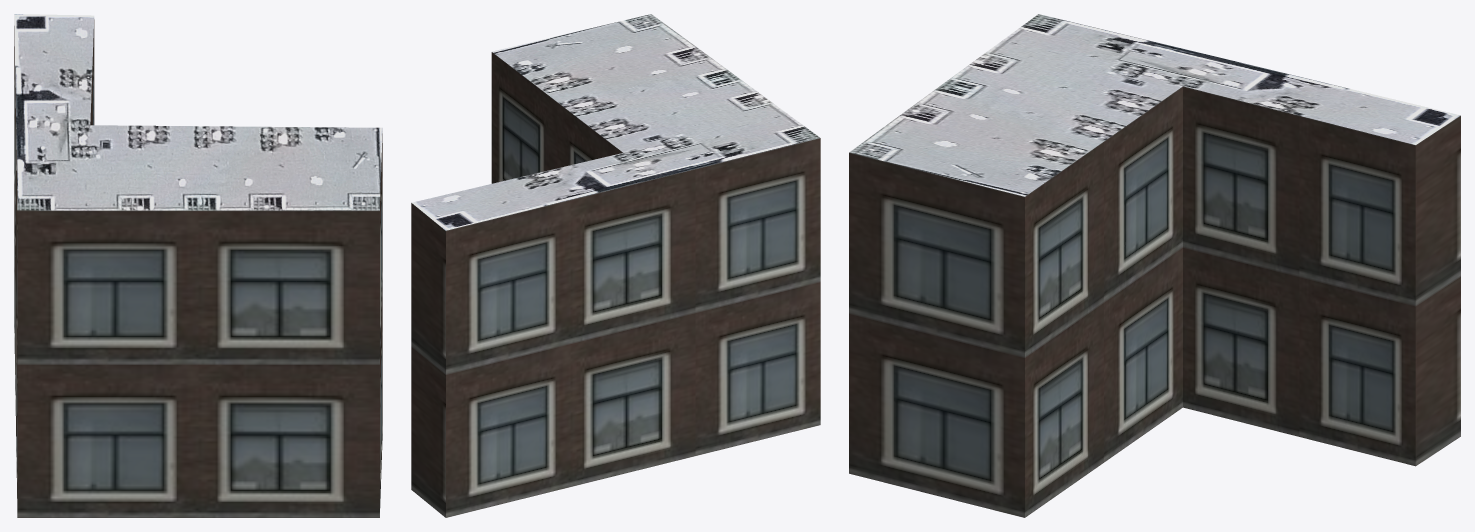
File: ResTex__802.fbx
3 views of the same model, side by side, from view 1: azimuth 30°, elevation 25°; view 2: azimuth 150°, elevation 25°; view 3: azimuth 270°, elevation 25° (orthographic). The views are drawn at different scales.
Visible parts, largest first — view 1: CityEngineMaterial_16_m, CityEngineMaterial_15_m; view 2: CityEngineMaterial_16_m, CityEngineMaterial_15_m; view 3: CityEngineMaterial_16_m, CityEngineMaterial_15_m.
Boxes of the visible parts, <box> form: CityEngineMaterial_16_m: <box>14,19,382,517</box>; CityEngineMaterial_15_m: <box>14,14,382,210</box>; CityEngineMaterial_16_m: <box>411,52,820,517</box>; CityEngineMaterial_15_m: <box>412,14,819,230</box>; CityEngineMaterial_16_m: <box>849,86,1460,517</box>; CityEngineMaterial_15_m: <box>849,14,1460,196</box>.
Bounding box in the file's own units: 7.33 × 6 × 10.36.
Materials: 2 (2 with a texture image).
